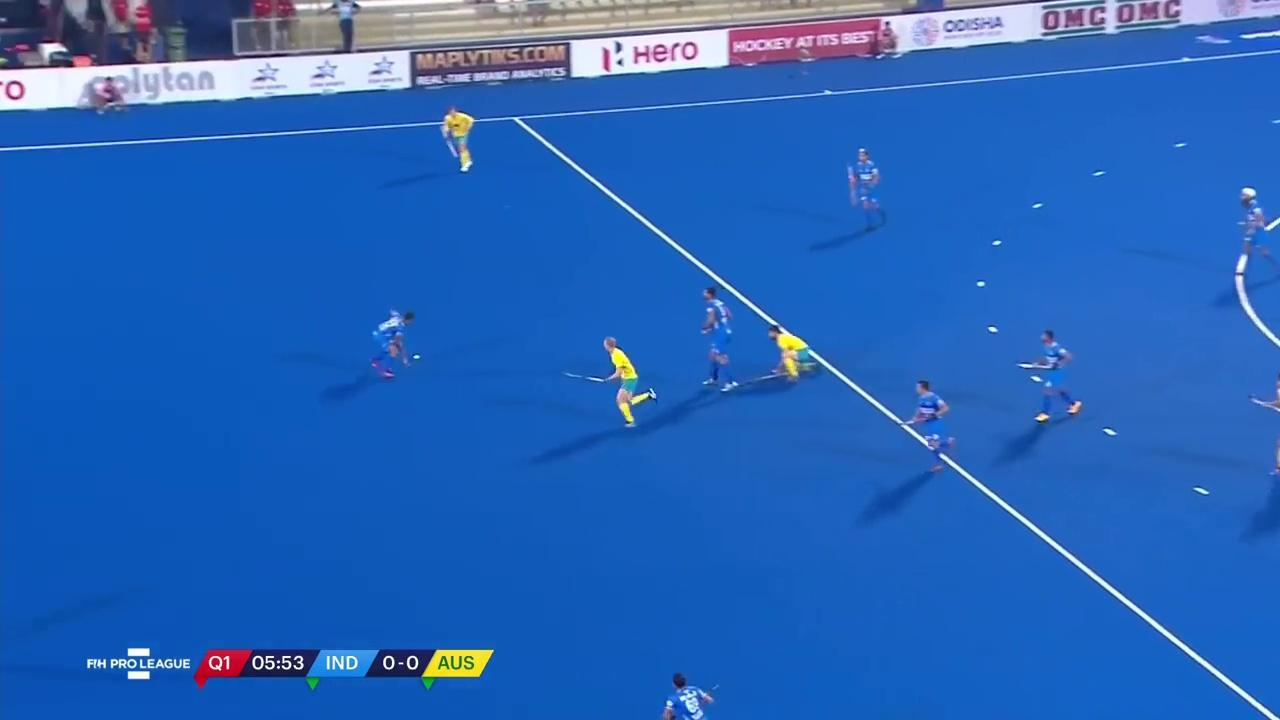ball: (409, 350, 423, 362)
